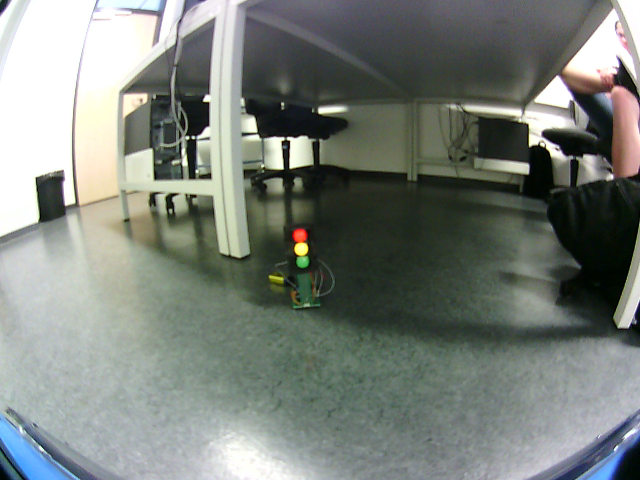red yellow trafficlight: (290, 226, 312, 272)
